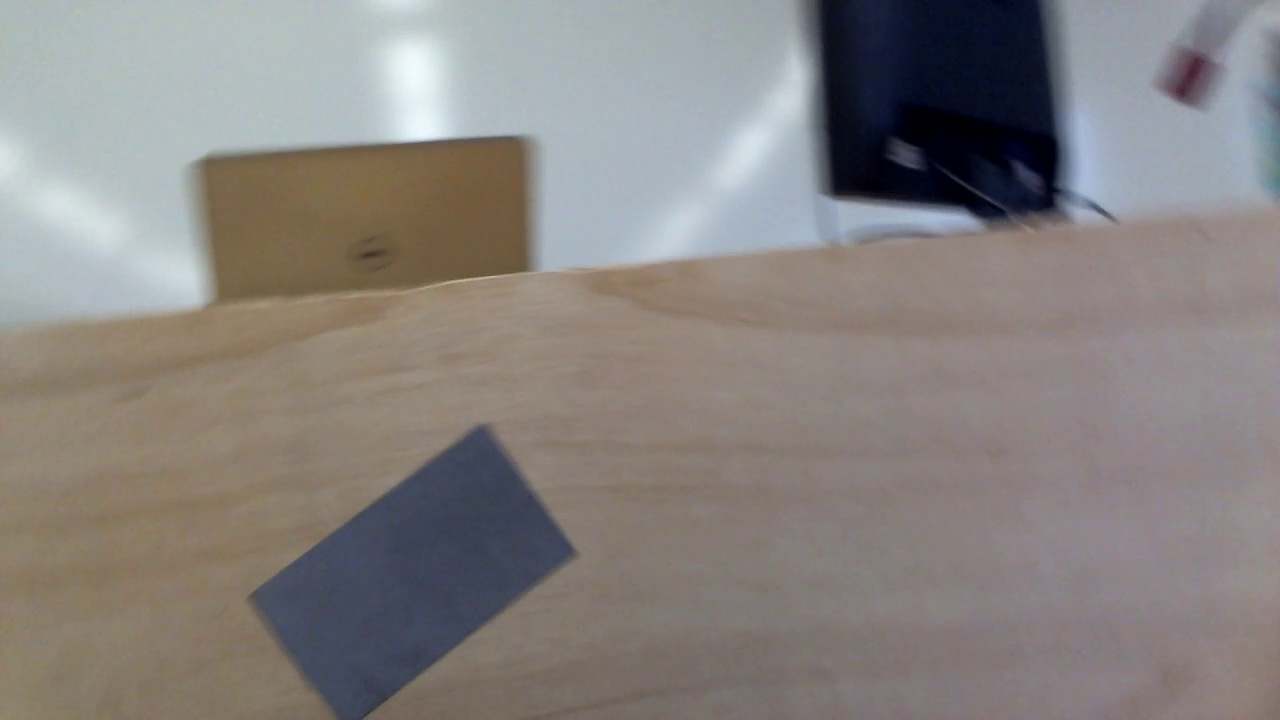Tape: (249, 422, 580, 720)
